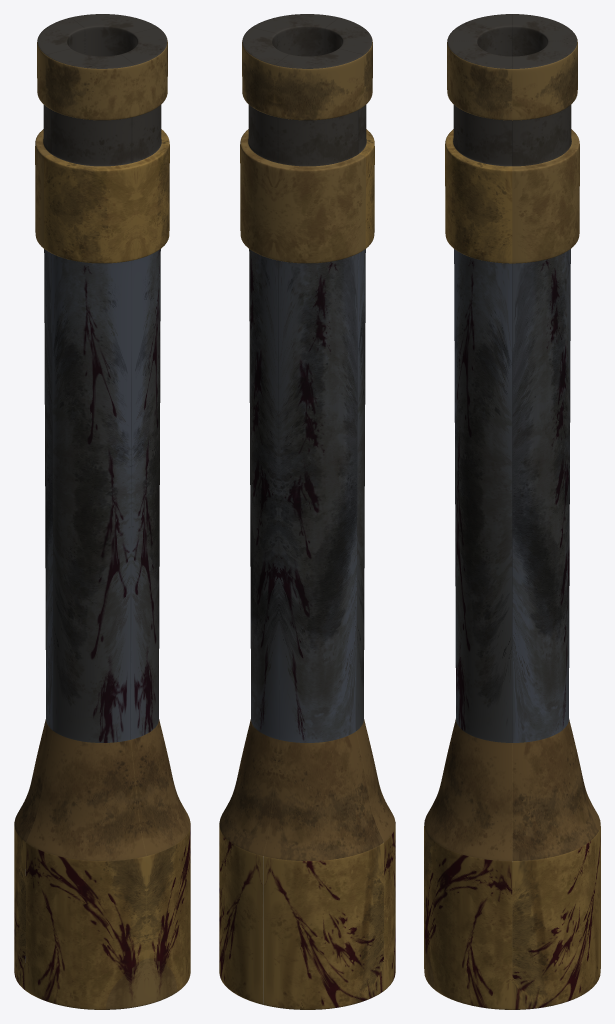
The model's file is Linterna.fbx.
3 views of the same model, side by side, from view 1: azimuth 30°, elevation 25°; view 2: azimuth 150°, elevation 25°; view 3: azimuth 270°, elevation 25° (orthographic).
Visible parts, largest first — view 1: Linterna; view 2: Linterna; view 3: Linterna.
Boxes of the visible parts, x1,y1,x2,y2 form: Linterna: (14,14,190,1009); Linterna: (219,14,395,1009); Linterna: (424,14,600,1009).
Bounding box in the file's own units: 2.75 × 16.01 × 2.75.
Materials: 1 (1 with a texture image).
